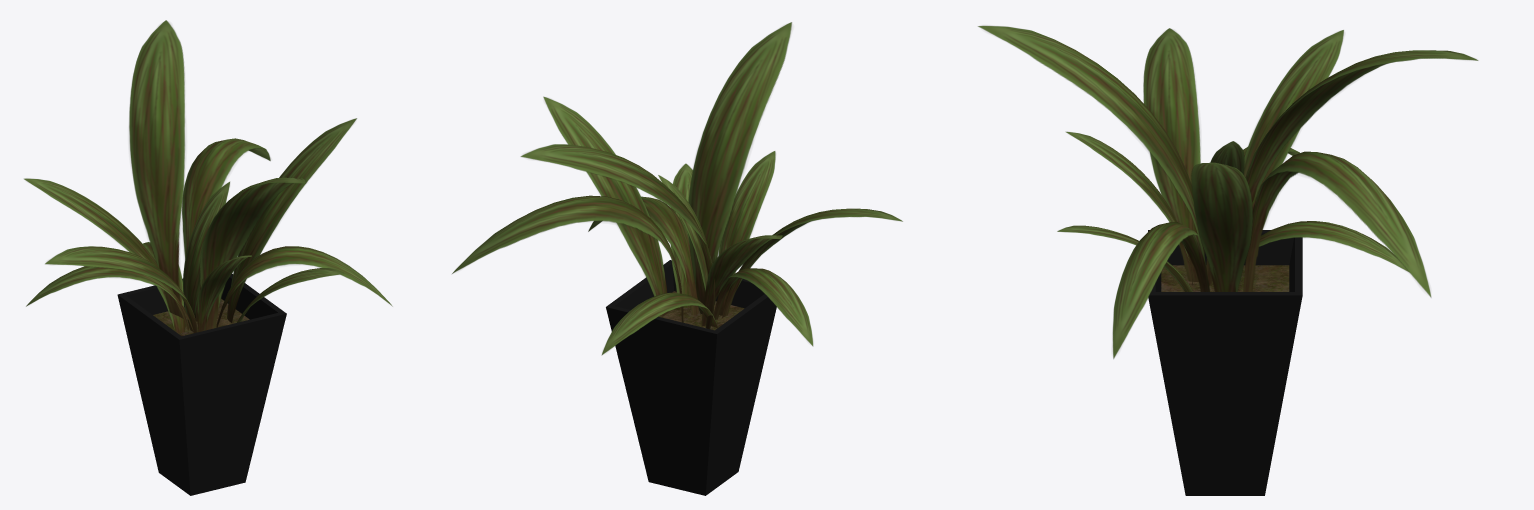
File: office-plant.glb
The picture shows the model from 3 angles, left to right: view 1: azimuth 30°, elevation 25°; view 2: azimuth 150°, elevation 25°; view 3: azimuth 270°, elevation 25°; orthographic projection. The views are drawn at different scales.
Parts seen in each view (by area): view 1: office-plant; view 2: office-plant; view 3: office-plant.
Part boxes in pixels (<box>): office-plant: <box>24,20,392,495</box>; office-plant: <box>452,22,902,495</box>; office-plant: <box>978,25,1478,495</box>.
Size of the model in its own units: 0.334 by 0.3197 by 0.3568.
Materials: 3 (3 with a texture image).
